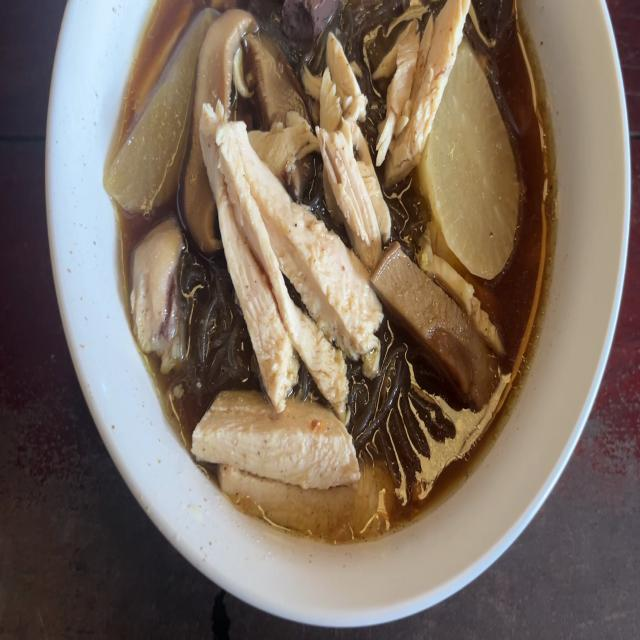boiled_chicken_blood_jelly: (281, 0, 342, 39), (472, 0, 516, 52)
chicken_shredded: (205, 106, 368, 394), (195, 392, 378, 534), (378, 0, 470, 181), (317, 30, 380, 252), (126, 221, 185, 355)
daikon_radish: (106, 1, 215, 215), (428, 37, 523, 271)
noodle: (111, 0, 546, 545)
